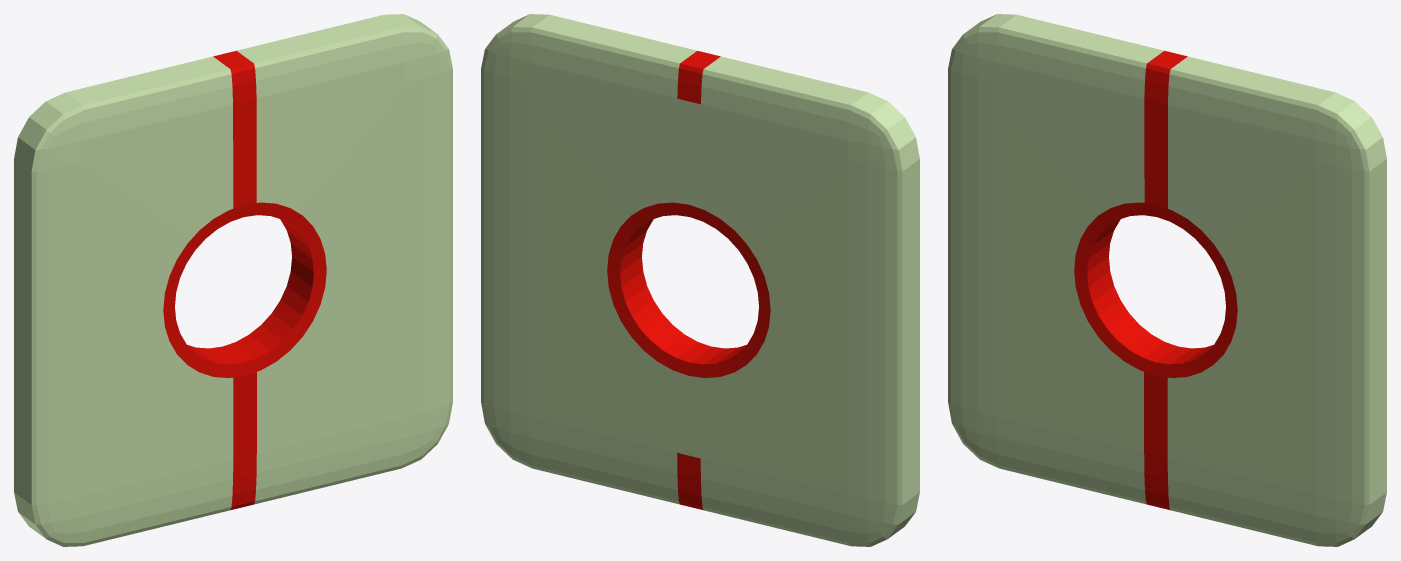
File: CenterHole.fbx
3 renders of one model, left to right at view 1: azimuth 30°, elevation 25°; view 2: azimuth 150°, elevation 25°; view 3: azimuth 330°, elevation 25°, orthographic.
Visible parts, largest first — view 1: Cube.001; view 2: Cube.001; view 3: Cube.001.
Part boxes in pixels (box(x1,y1,x2,y2)): Cube.001: box(14, 14, 452, 546); Cube.001: box(481, 14, 919, 546); Cube.001: box(948, 14, 1386, 546).
Size of the model in its own units: 1272 by 1272 by 121.
